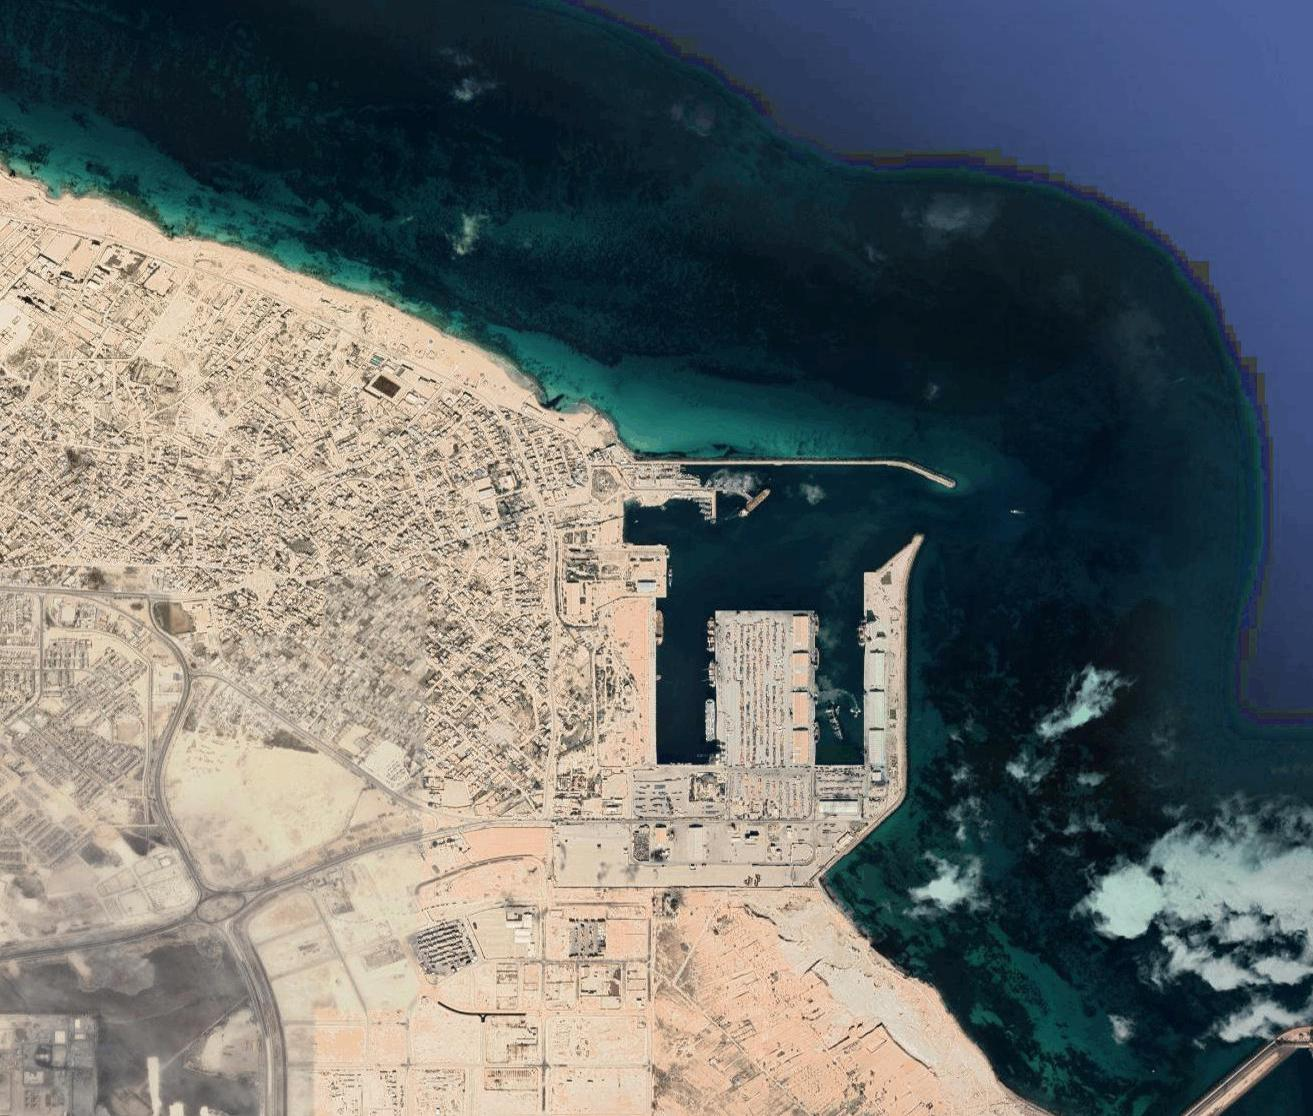harbor: (604, 423, 932, 805)
